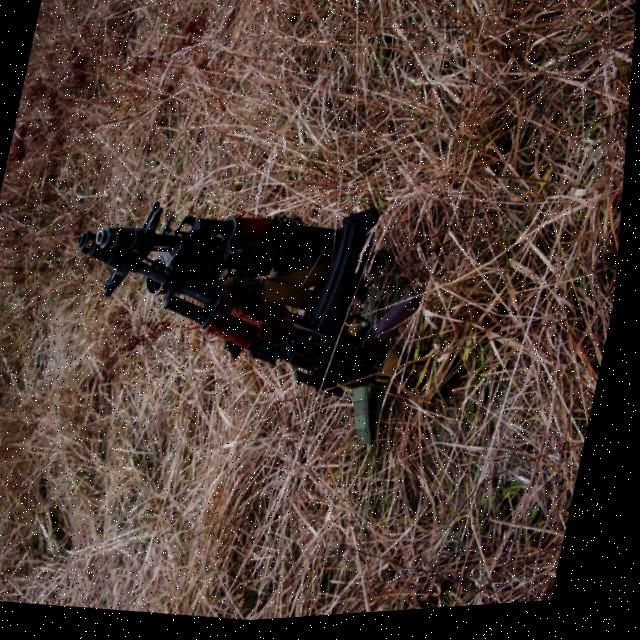firearm: (51, 163, 503, 430), (86, 180, 410, 334)
